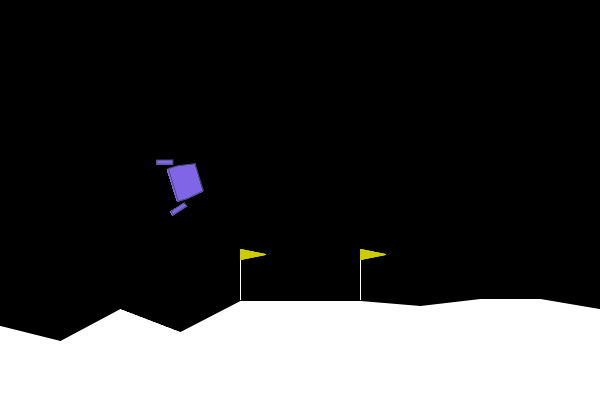lander: (154, 148, 209, 217)
